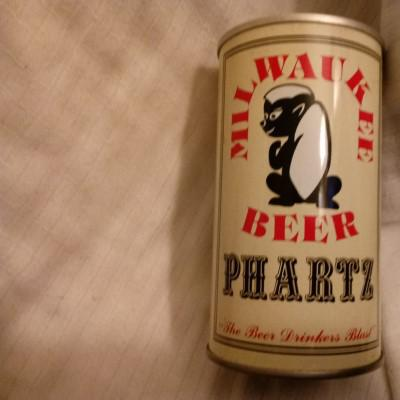beer: (209, 20, 385, 372)
